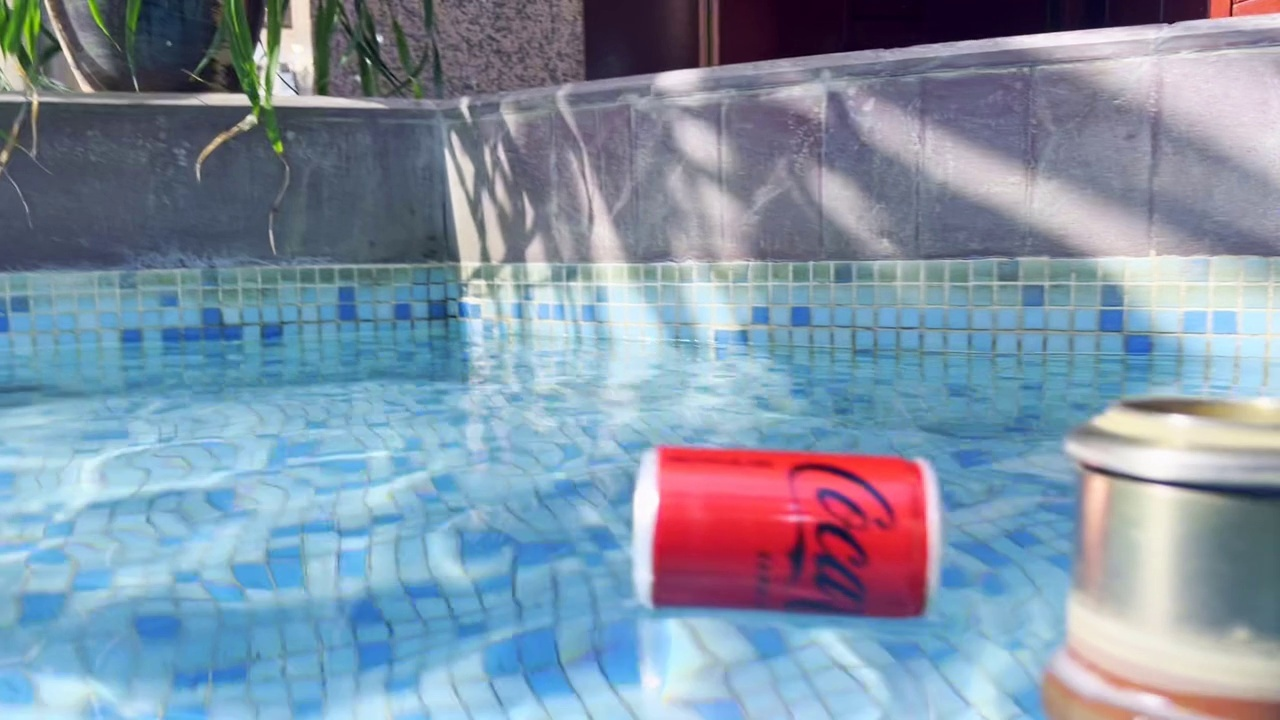debris: (623, 434, 949, 636)
